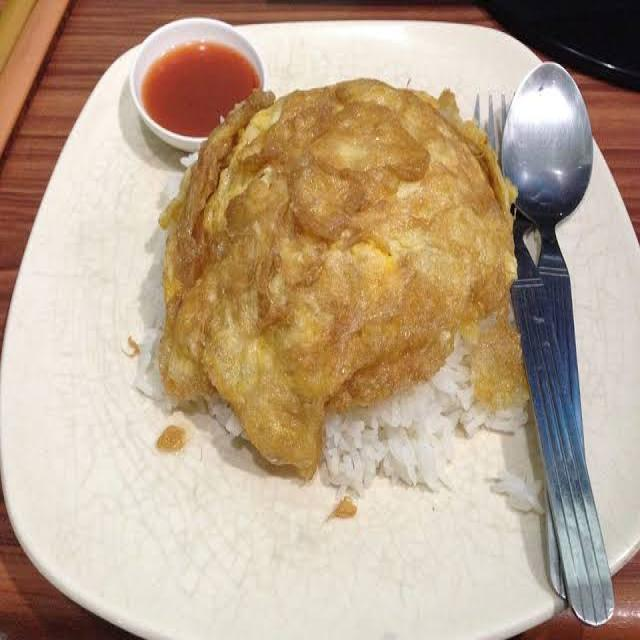carb: (351, 357, 533, 516)
meat: (213, 86, 462, 386)
omelette rice: (159, 67, 536, 524)
